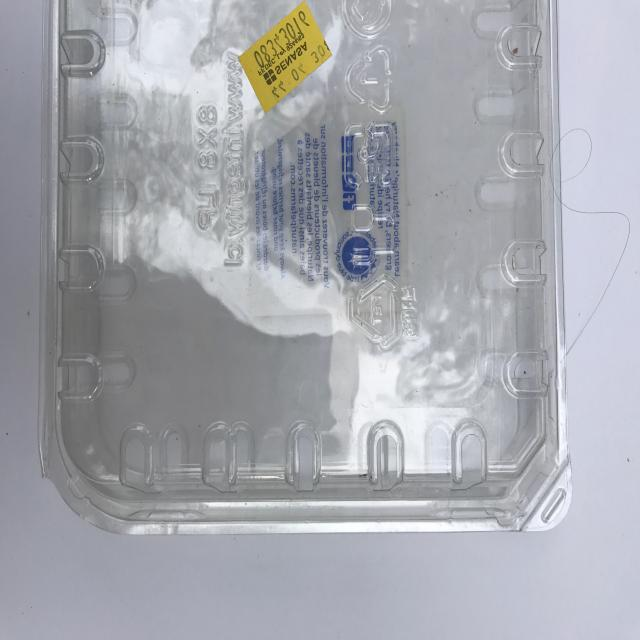plastic: (44, 0, 571, 531)
